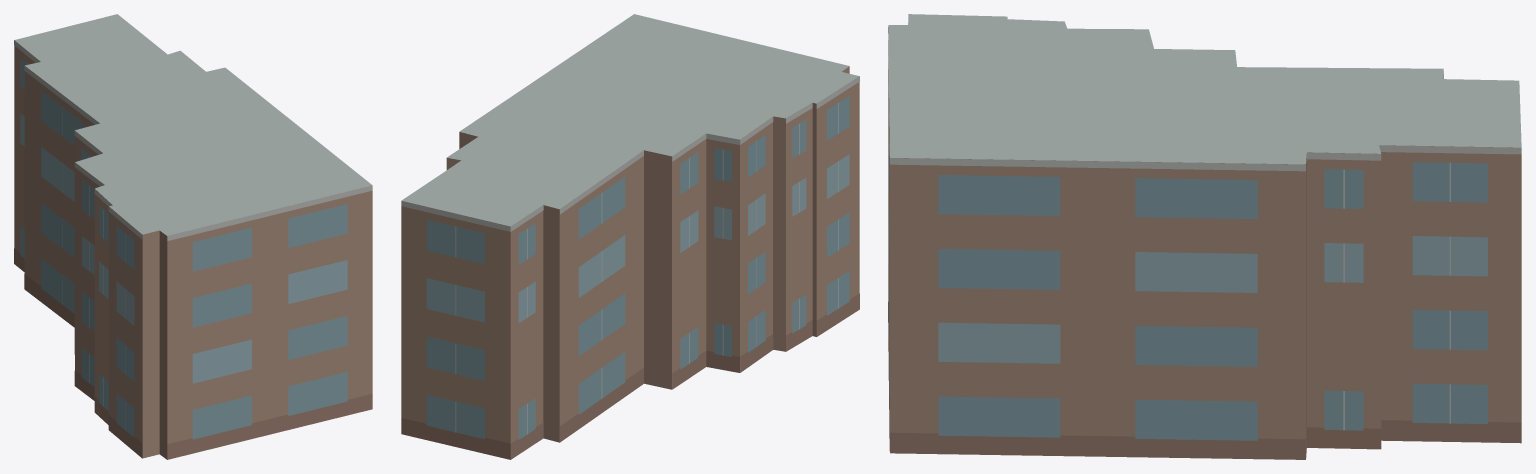
File: survey-upis-32816700.glb
3 views of the same model, side by side, from view 1: azimuth 30°, elevation 25°; view 2: azimuth 150°, elevation 25°; view 3: azimuth 270°, elevation 25° (orthographic). The views are drawn at different scales.
Visible parts, largest first — view 1: survey-upis-32816700.tmp; view 2: survey-upis-32816700.tmp; view 3: survey-upis-32816700.tmp.
Part boxes in pixels (x1=…): survey-upis-32816700.tmp: x1=14, y1=14, x2=372, y2=459; survey-upis-32816700.tmp: x1=401, y1=14, x2=859, y2=459; survey-upis-32816700.tmp: x1=888, y1=14, x2=1521, y2=459.
Bounding box in the file's own units: 11.47 × 10.5 × 20.41.
